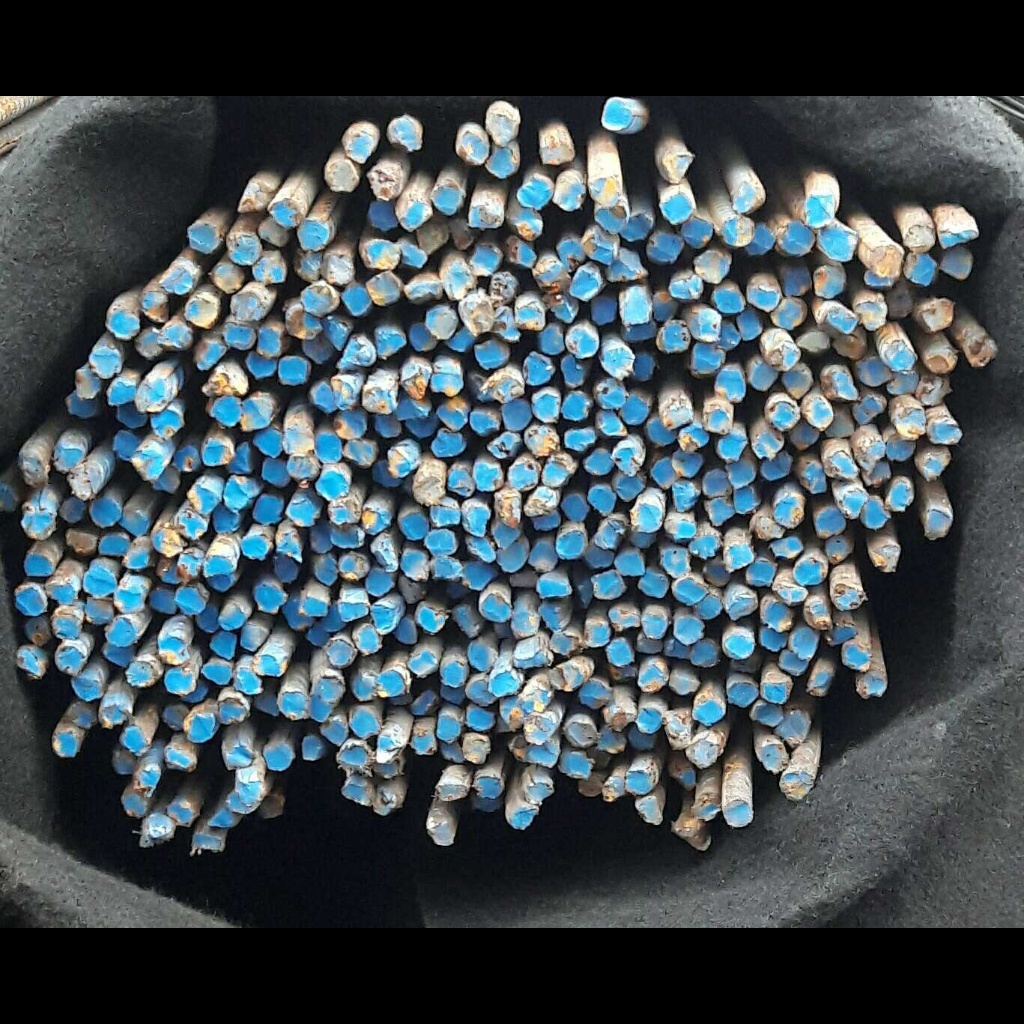dipstick: (744, 271, 781, 312), (458, 295, 495, 334), (693, 248, 732, 284), (582, 231, 620, 266), (647, 229, 685, 263), (495, 535, 529, 572), (770, 296, 807, 330), (285, 306, 323, 339), (619, 286, 651, 324), (903, 252, 938, 286), (367, 271, 401, 305), (780, 220, 814, 254), (397, 199, 433, 231), (813, 263, 846, 297), (342, 131, 377, 163), (553, 177, 585, 212), (822, 229, 857, 261), (833, 327, 868, 359), (474, 339, 510, 370), (938, 218, 977, 246), (425, 307, 458, 340), (522, 352, 555, 385), (561, 354, 594, 387), (712, 280, 745, 313), (657, 320, 689, 354), (921, 298, 953, 332), (363, 240, 398, 271), (530, 387, 560, 423), (405, 274, 442, 303), (326, 160, 359, 192), (601, 98, 633, 131), (940, 247, 972, 280), (369, 168, 403, 199), (488, 110, 519, 144), (669, 269, 703, 300), (659, 153, 693, 184), (872, 244, 903, 278), (823, 369, 857, 400), (852, 394, 886, 425), (525, 425, 560, 455), (565, 326, 597, 358), (767, 341, 799, 373), (918, 373, 950, 405), (83, 566, 116, 597), (518, 178, 551, 209), (691, 309, 722, 342), (17, 644, 47, 678), (286, 497, 320, 527), (18, 454, 49, 486), (302, 283, 333, 315), (334, 409, 366, 440), (391, 117, 422, 149), (470, 244, 502, 275), (781, 367, 813, 398), (767, 401, 799, 432), (735, 308, 766, 340), (855, 299, 886, 331), (89, 348, 122, 378), (224, 476, 253, 510), (592, 570, 626, 599), (431, 428, 466, 456), (780, 772, 815, 800), (228, 234, 259, 265), (141, 291, 172, 322), (211, 395, 242, 426), (484, 147, 515, 178), (603, 348, 634, 379), (211, 263, 243, 293), (89, 497, 121, 527), (187, 484, 219, 514), (464, 560, 496, 590), (505, 237, 537, 267), (570, 269, 600, 301), (804, 195, 834, 227), (222, 320, 255, 349), (270, 199, 303, 228), (594, 205, 627, 234), (536, 323, 565, 356), (630, 504, 663, 533), (673, 577, 707, 605), (494, 492, 521, 527), (137, 381, 167, 412), (113, 430, 143, 461), (54, 645, 85, 675), (131, 450, 162, 480), (252, 494, 283, 524), (298, 220, 328, 251), (341, 285, 372, 315), (432, 186, 463, 216), (388, 448, 419, 478), (501, 399, 531, 430), (458, 133, 488, 164), (765, 600, 795, 631), (693, 342, 724, 372), (966, 335, 996, 366), (895, 407, 926, 437), (161, 265, 193, 294), (184, 713, 216, 742), (252, 428, 284, 457), (350, 705, 379, 737), (328, 495, 360, 524), (861, 497, 890, 529), (826, 453, 858, 482), (159, 322, 192, 350), (278, 691, 311, 719), (431, 369, 464, 397), (412, 476, 445, 504), (791, 625, 819, 658), (231, 292, 265, 319), (344, 439, 378, 466), (187, 223, 217, 253), (361, 505, 391, 535), (400, 550, 430, 580), (323, 254, 353, 284), (507, 460, 537, 490), (856, 439, 886, 469), (68, 469, 99, 498), (22, 510, 53, 539), (104, 618, 135, 647), (259, 218, 290, 247), (339, 550, 370, 579), (524, 487, 555, 516), (672, 448, 703, 477), (773, 498, 804, 527), (660, 401, 691, 430), (717, 371, 746, 402), (682, 219, 713, 248), (859, 357, 890, 386), (15, 587, 47, 615), (175, 512, 207, 540), (316, 472, 348, 500), (611, 448, 643, 476), (151, 410, 184, 437), (826, 307, 859, 334), (468, 202, 502, 228), (330, 523, 365, 548), (362, 388, 397, 413), (258, 585, 288, 614), (242, 398, 271, 428), (288, 454, 318, 483), (369, 200, 398, 230), (660, 548, 690, 577), (717, 433, 747, 462), (724, 217, 754, 246), (734, 183, 764, 212), (745, 224, 774, 254), (165, 745, 196, 773), (187, 299, 218, 327), (246, 351, 277, 379), (473, 463, 504, 491), (588, 486, 616, 517), (596, 380, 627, 408), (539, 603, 570, 631), (560, 751, 591, 779), (579, 680, 610, 708), (671, 481, 699, 512), (760, 452, 791, 480), (661, 195, 692, 223), (919, 452, 950, 480), (216, 698, 248, 725), (488, 432, 520, 459), (831, 584, 864, 610), (929, 418, 962, 444), (261, 458, 290, 487), (345, 776, 374, 805), (805, 399, 834, 428), (109, 311, 139, 339), (397, 575, 427, 603), (674, 617, 704, 645), (753, 430, 783, 458), (926, 345, 956, 373), (817, 507, 845, 537), (136, 326, 163, 357), (465, 703, 496, 730), (513, 303, 544, 330), (638, 570, 669, 597), (465, 505, 491, 537), (652, 457, 678, 489), (887, 369, 919, 395), (312, 554, 338, 586), (66, 393, 99, 418), (55, 445, 83, 474), (279, 357, 308, 385), (314, 434, 342, 463), (354, 624, 382, 653), (316, 675, 344, 704), (409, 650, 438, 678), (463, 735, 492, 763), (417, 604, 445, 633), (468, 642, 496, 671), (482, 594, 511, 622), (556, 531, 585, 559), (530, 543, 558, 572), (615, 473, 644, 501), (598, 725, 626, 754), (728, 592, 757, 620), (703, 469, 732, 497), (906, 224, 935, 252), (253, 256, 283, 283), (114, 586, 144, 613), (175, 588, 205, 615), (370, 604, 397, 634), (466, 679, 496, 706), (437, 404, 467, 431), (591, 177, 621, 204), (687, 740, 717, 767), (340, 742, 371, 768), (583, 448, 614, 474), (621, 214, 652, 240), (884, 343, 915, 369), (164, 669, 196, 694), (770, 535, 803, 559), (24, 618, 52, 646), (121, 727, 149, 755), (159, 636, 187, 664), (400, 512, 428, 540), (409, 322, 437, 350), (702, 559, 730, 587), (887, 434, 915, 462), (210, 631, 237, 660), (153, 529, 182, 556), (524, 716, 551, 745), (552, 664, 581, 691), (691, 639, 720, 666), (779, 648, 808, 675), (871, 546, 900, 573), (203, 439, 233, 465), (256, 327, 282, 357), (376, 671, 406, 697), (125, 661, 156, 686), (614, 550, 645, 575), (776, 579, 807, 604), (564, 426, 596, 450), (123, 544, 151, 571), (212, 506, 240, 533), (447, 470, 475, 497), (562, 392, 589, 420), (628, 724, 656, 751), (607, 703, 635, 730), (621, 397, 648, 425), (638, 665, 666, 692), (760, 623, 787, 651), (708, 498, 736, 525), (750, 363, 777, 391), (842, 644, 870, 671), (75, 369, 101, 398), (72, 674, 101, 700), (310, 383, 336, 412), (590, 296, 616, 325), (802, 464, 828, 493), (117, 403, 147, 428), (566, 722, 596, 747), (856, 673, 886, 698), (842, 489, 867, 519), (926, 509, 951, 539), (541, 140, 572, 164), (609, 606, 640, 630), (727, 683, 758, 707), (794, 561, 825, 585), (378, 332, 405, 359), (760, 744, 787, 771), (276, 529, 303, 556), (120, 509, 148, 535), (219, 602, 245, 630), (263, 744, 291, 770), (427, 818, 455, 844), (365, 569, 393, 595), (511, 611, 539, 637), (561, 495, 587, 523), (409, 689, 438, 714), (470, 411, 499, 436), (725, 461, 754, 486), (887, 482, 912, 511), (678, 427, 709, 450), (99, 702, 126, 728), (490, 671, 517, 697), (493, 523, 520, 549), (637, 798, 663, 825), (584, 620, 610, 647), (705, 408, 732, 434), (156, 558, 184, 583), (206, 556, 234, 581), (724, 801, 752, 826), (647, 419, 675, 444), (804, 605, 832, 630), (425, 530, 454, 554), (693, 700, 722, 724), (162, 705, 188, 731), (636, 708, 662, 734), (321, 718, 346, 745), (695, 594, 722, 619), (746, 561, 773, 586), (47, 579, 75, 603), (226, 745, 254, 769), (196, 604, 220, 632), (436, 715, 460, 743), (725, 635, 753, 659), (632, 352, 656, 380), (510, 807, 539, 830), (202, 663, 232, 685), (430, 505, 461, 526), (52, 614, 78, 639), (52, 731, 78, 756), (167, 802, 193, 827), (177, 553, 203, 578), (241, 534, 267, 559), (327, 641, 352, 667), (258, 793, 283, 819), (606, 639, 631, 665), (733, 486, 758, 512), (827, 539, 853, 564), (59, 499, 86, 523), (121, 793, 148, 817), (235, 670, 262, 694), (274, 556, 298, 583), (107, 381, 135, 404), (432, 556, 460, 579), (374, 414, 402, 437), (550, 631, 578, 654), (253, 654, 282, 676), (339, 600, 368, 622), (754, 703, 783, 725), (641, 614, 666, 639), (150, 589, 176, 613), (302, 734, 326, 760), (394, 618, 418, 644), (727, 544, 751, 570), (668, 518, 695, 541), (24, 555, 52, 577), (99, 536, 129, 556), (175, 446, 199, 471), (441, 661, 466, 685), (626, 771, 651, 795), (475, 776, 502, 798), (689, 536, 716, 558), (412, 731, 436, 755), (377, 736, 399, 762), (539, 577, 569, 596), (240, 627, 263, 651), (193, 834, 222, 853), (828, 625, 857, 644), (302, 596, 328, 617), (528, 782, 552, 804), (764, 681, 787, 703), (437, 783, 466, 800), (808, 675, 829, 696)
